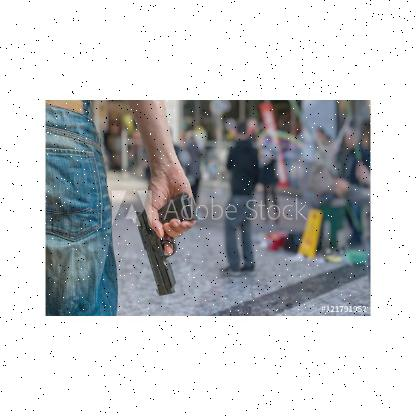gun: (131, 190, 197, 298)
